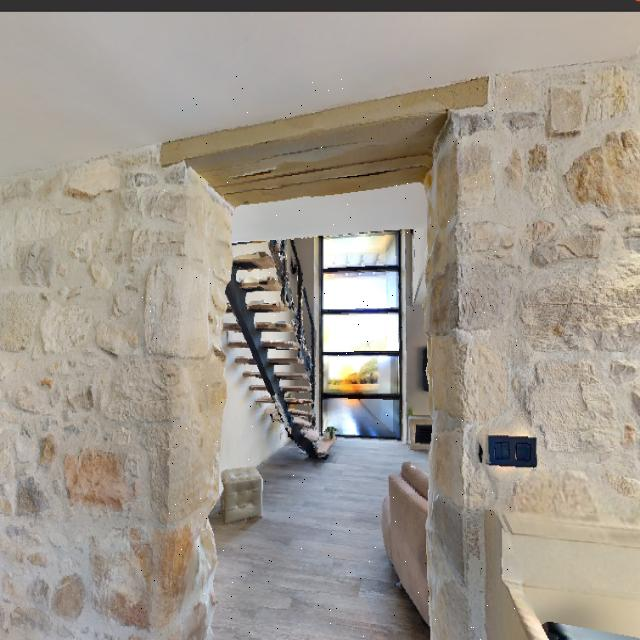door-frame: (141, 72, 520, 640)
stairs: (212, 238, 339, 468)
